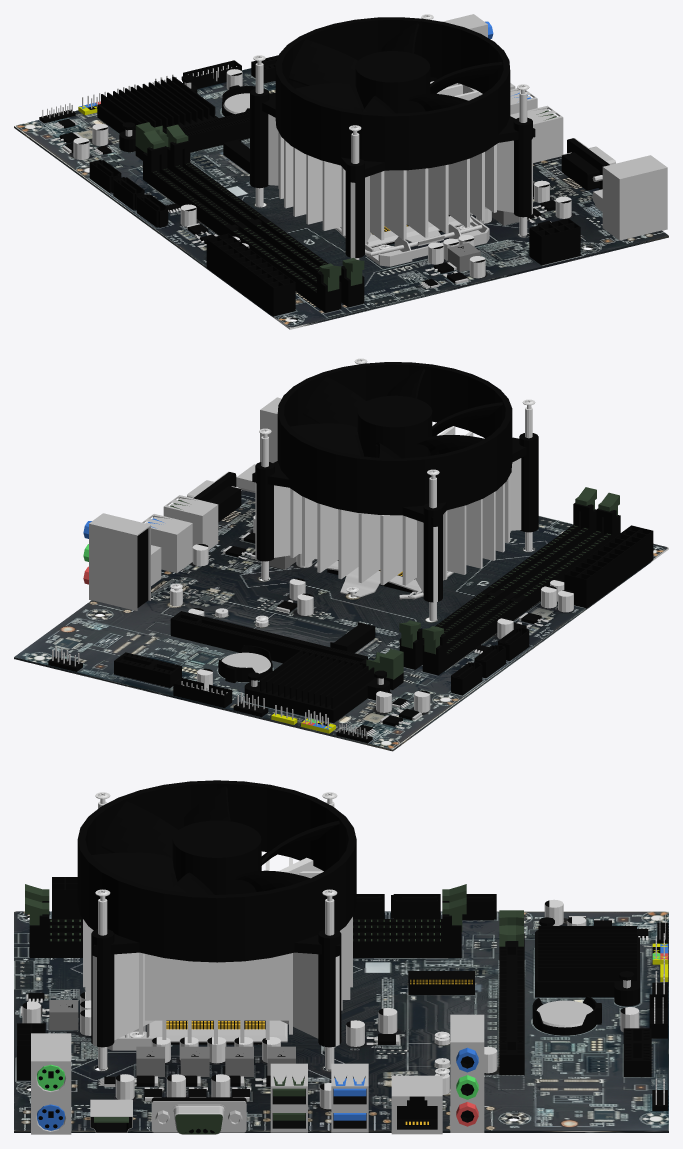
The model's file is PlacaMae.fbx.
3 renders of one model, top to bottom at view 1: azimuth 30°, elevation 25°; view 2: azimuth 150°, elevation 25°; view 3: azimuth 270°, elevation 25°, orthographic. The views are drawn at different scales.
Visible parts, largest first — view 1: Cylinder.007, Placa, Cylinder.008, Cube.008, Cube.003, Cube, Cube.015, Cube.004, Cylinder, Cube.009, Circle.001, Circle.003 (+11 smaller); view 2: Placa, Cylinder.007, Cylinder.008, Cube.003, Cube.008, Cube.004, Cube.015, Cube.009, Cube, Cylinder, Circle.003, Circle.002 (+9 smaller); view 3: Placa, Cylinder.007, Cube.003, Cylinder.008, Cube.015, Cube.008, Cube.004, Cylinder, Cube.009, Cube.002, Circle.001, Circle.002 (+11 smaller).
Part boxes in pixels (x1,y1,x2,y2): Cylinder.007: [262, 17, 535, 177]; Placa: [14, 68, 668, 329]; Cylinder.008: [268, 81, 513, 245]; Cube.008: [143, 124, 364, 312]; Cube.003: [437, 14, 667, 240]; Cube: [206, 218, 580, 316]; Cube.015: [289, 23, 502, 113]; Cube.004: [97, 75, 218, 152]; Cylinder: [73, 69, 571, 278]; Cube.009: [135, 110, 249, 160]; Circle.001: [513, 92, 532, 237]; Circle.003: [250, 63, 269, 206]; Placa: [14, 490, 668, 751]; Cylinder.007: [252, 362, 526, 525]; Cylinder.008: [274, 426, 521, 593]; Cube.003: [83, 397, 281, 610]; Cube.008: [399, 487, 620, 675]; Cube.004: [244, 650, 389, 723]; Cube.015: [290, 368, 502, 458]; Cube.009: [170, 611, 403, 689]; Cube: [564, 525, 653, 608]; Cylinder: [188, 515, 573, 712]; Circle.003: [423, 477, 442, 621]; Circle.002: [255, 436, 274, 580]; Placa: [14, 911, 668, 1132]; Cylinder.007: [77, 780, 356, 962]; Cube.003: [31, 1014, 484, 1134]; Cylinder.008: [83, 852, 352, 1044]; Cube.015: [91, 786, 339, 894]; Cube.008: [25, 884, 466, 957]; Cube.004: [535, 917, 639, 1006]; Cylinder: [22, 899, 639, 1109]; Cube.009: [499, 910, 524, 1075]; Cube.002: [49, 1000, 295, 1076]; Circle.001: [91, 899, 114, 1070]; Circle.002: [318, 899, 341, 1070].
Bounding box in the file's own units: 400 × 152 × 485.
